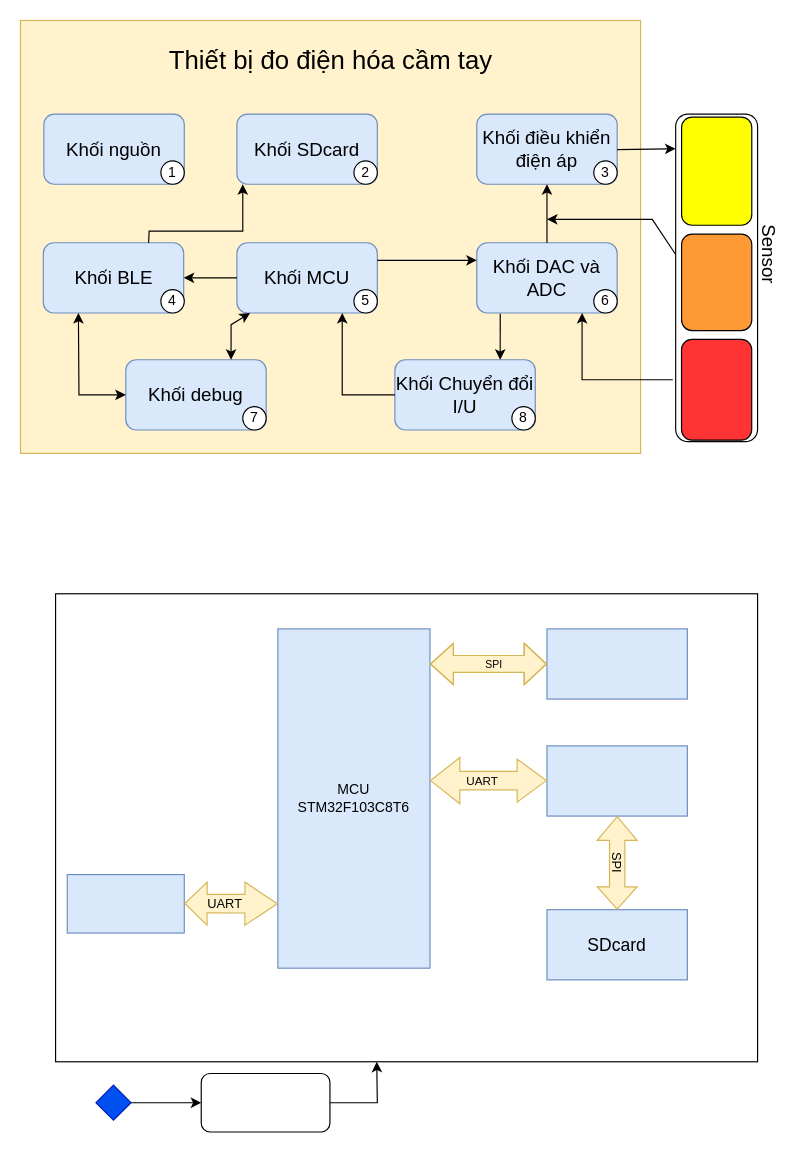
This 807x1152 diagram has some shape labels left out. Here are the shapes that lost their labels. From the top down, the centre of each, then its label:
At [716,170]: "Counter Electrode".
At [716,282]: "Reference Electrode".
At [716,389]: "Work Electrode".
At [616,663]: "DAC và ADC".
At [616,780]: "ESP32-BLE".
At [125,903]: "Debug".
At [265,1102]: "Power".
